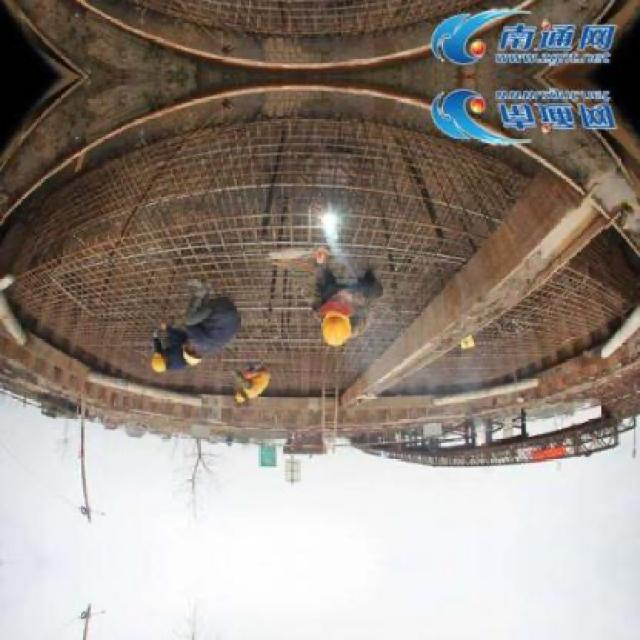con casco: (295, 293, 367, 351), (208, 379, 266, 428), (143, 320, 198, 366)
